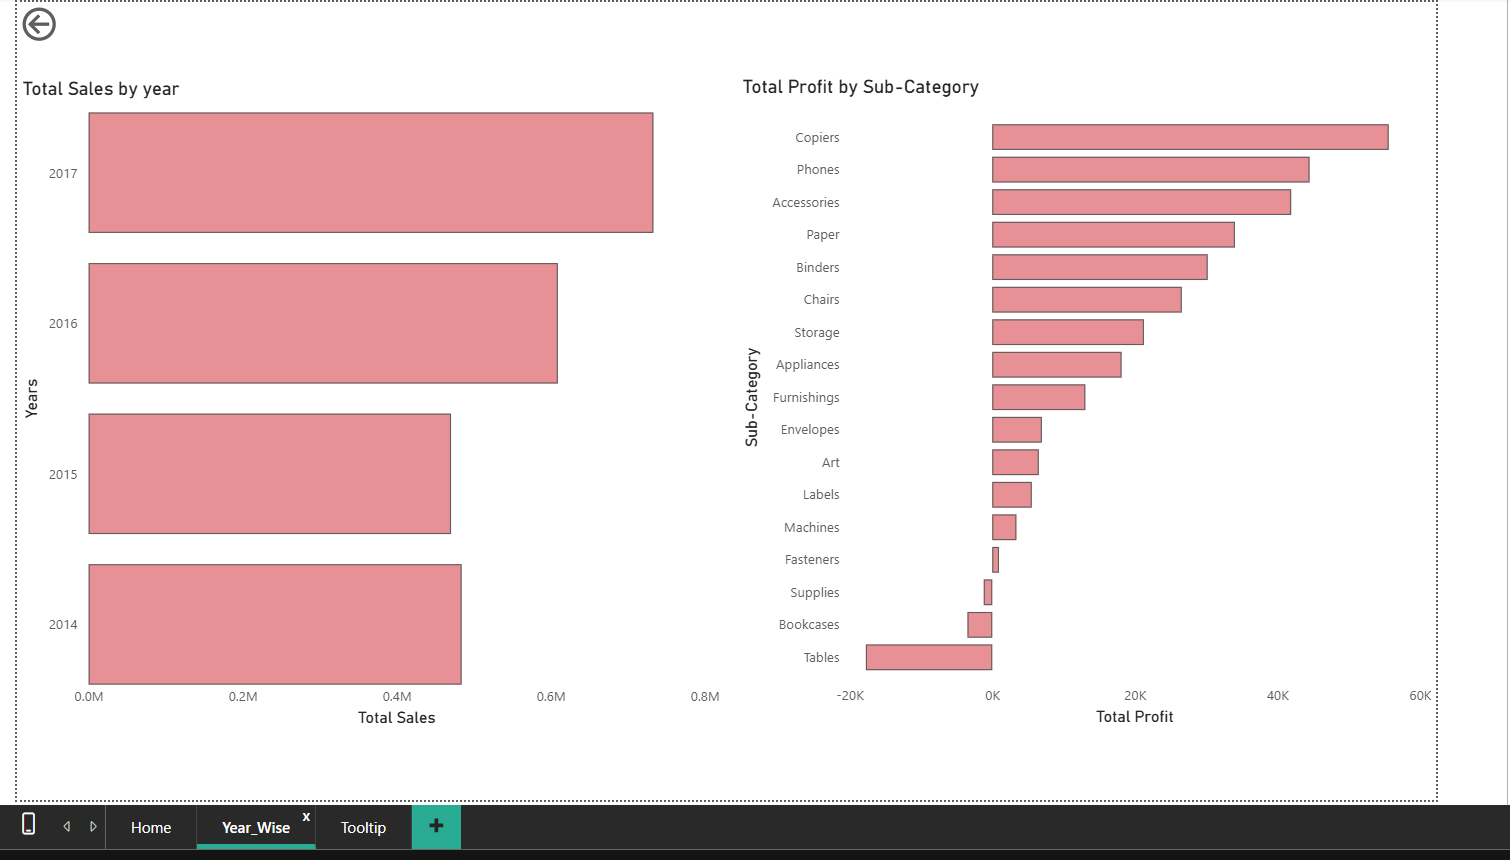

The dashboard page shown, as its layout file describes it:
{"tool":"powerbi","page":{"name":"Year_Wise","canvas":[1280,720],"ordinal":1},"visuals":[{"type":"actionButton","box":[0,0,100,40],"z":0},{"type":"barChart","title":"Total Sales by year","fields":{"Category":["Superstore.year"],"Y":["Sum(Superstore.Sales)"]},"box":[0,67.2,639.4,590.9],"z":1000},{"type":"barChart","title":"Total Profit by Sub-Category","fields":{"Category":["Superstore.Sub-Category"],"Y":["Sum(Superstore.Profit)"]},"box":[649,67,631,591],"z":2000}]}

Visuals, with their boxes on the page's 1280x720 design canvas (x1, y1, x2, y2). These are canvas units, not pixel positions in the 1510x860 screenshot, which may show the page scaled, cropped or inside an application window:
actionButton: bbox(0, 0, 100, 40)
"Total Sales by year" barChart: bbox(0, 67, 639, 658)
"Total Profit by Sub-Category" barChart: bbox(649, 67, 1280, 658)
